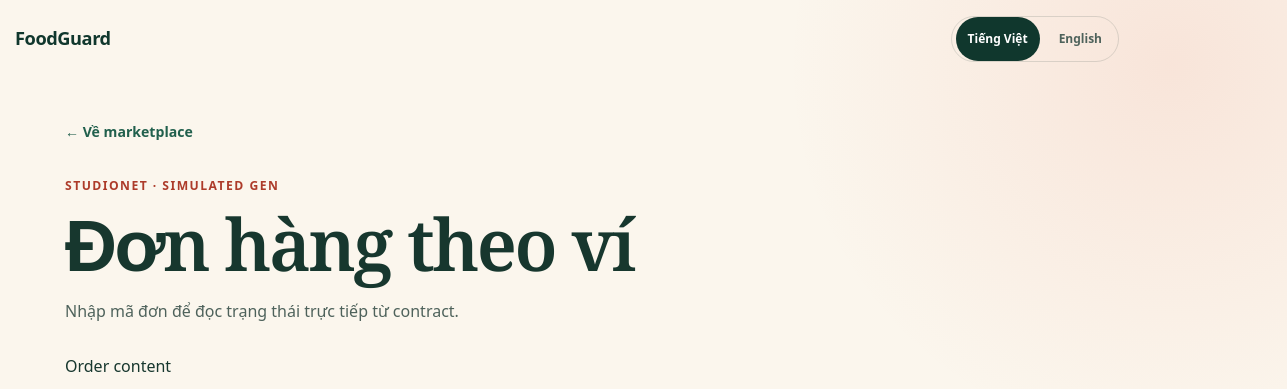
Test: FoodGuard locale › updates workflow navigation and headings with the selected URL locale
The width and height of the screenshot is (1287, 389).
Check: the heading "Đơn hàng theo ví" is shown, box 65,194 -> 634,292
Click the button "English": (1080, 39) 1047,17 -> 1114,61
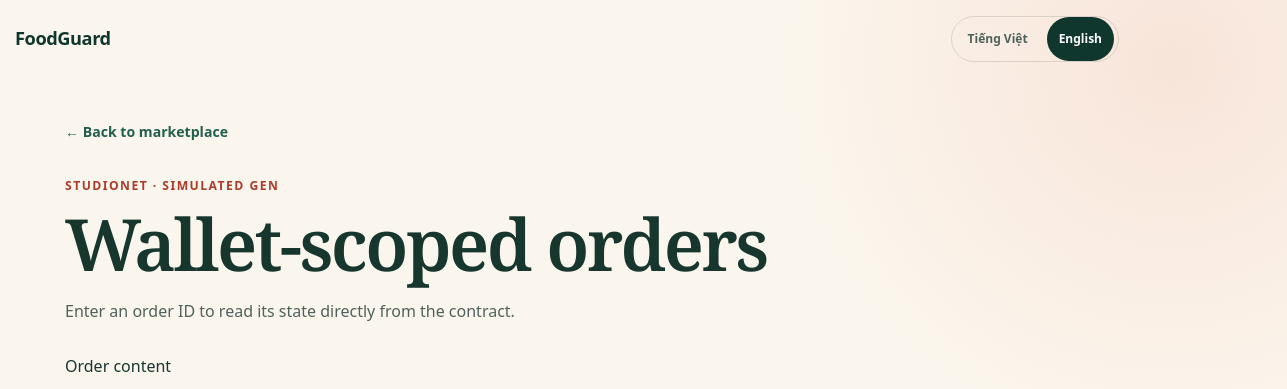
Check: the heading "Wallet-scoped orders" is shown, box 65,207 -> 785,281
